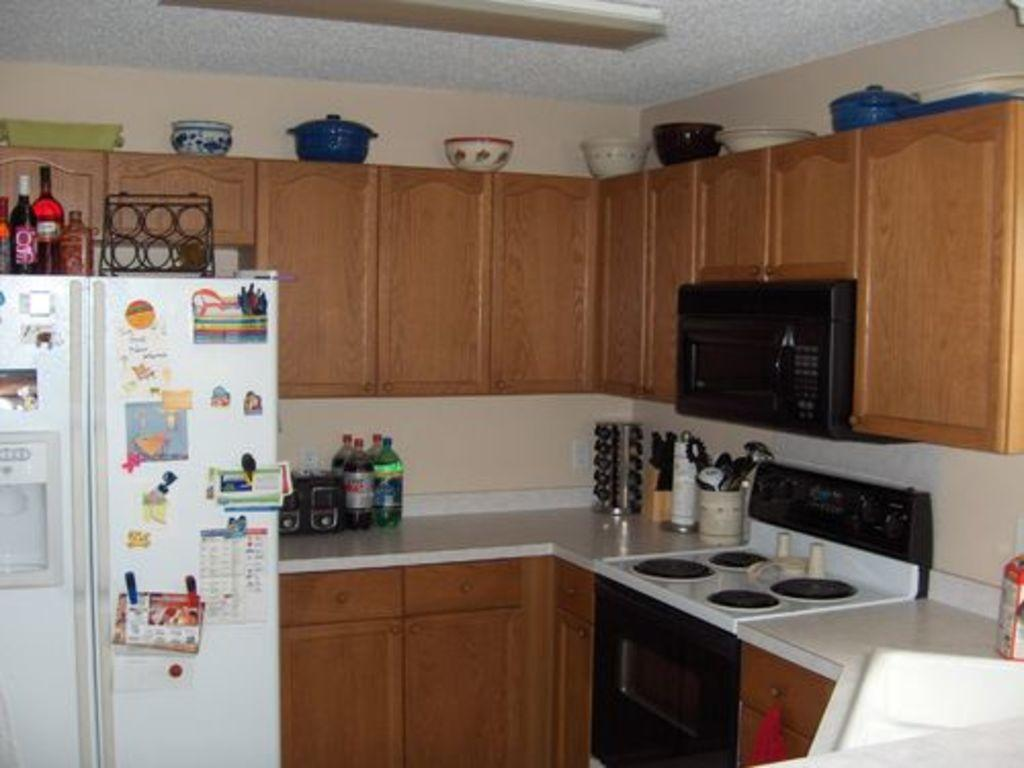cabinet_door: (863, 138, 999, 440), (266, 164, 370, 394), (380, 172, 486, 392), (490, 173, 594, 392), (288, 627, 402, 768), (413, 615, 516, 768), (770, 146, 856, 280), (602, 186, 648, 400), (650, 181, 690, 399), (697, 168, 765, 280), (400, 566, 522, 620), (281, 566, 403, 618), (743, 648, 823, 726), (558, 613, 588, 767), (554, 563, 594, 609)
handle: (60, 282, 94, 760), (86, 278, 116, 758), (762, 678, 790, 708), (328, 581, 354, 608), (408, 613, 423, 641), (456, 577, 476, 596), (572, 623, 589, 645), (387, 621, 404, 641), (564, 586, 579, 600)
